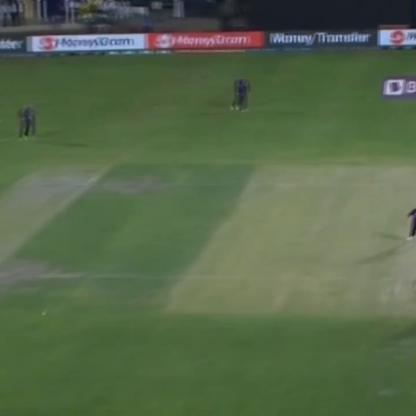ball: (36, 303, 51, 320)
